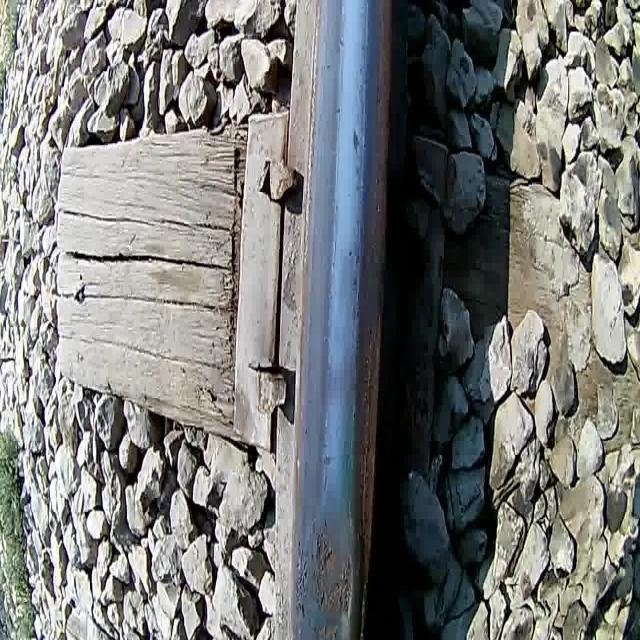Spallings: (314, 514, 356, 616), (294, 537, 308, 621)
Squats: (294, 504, 354, 640)
